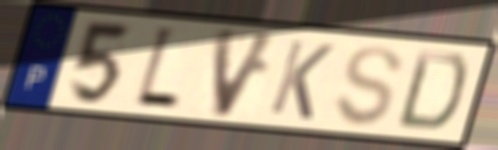5: (63, 19, 138, 107)
D: (393, 47, 471, 134)
K: (265, 37, 337, 123)
L: (130, 22, 184, 114)
S: (331, 43, 406, 129)
V: (209, 24, 283, 121)
